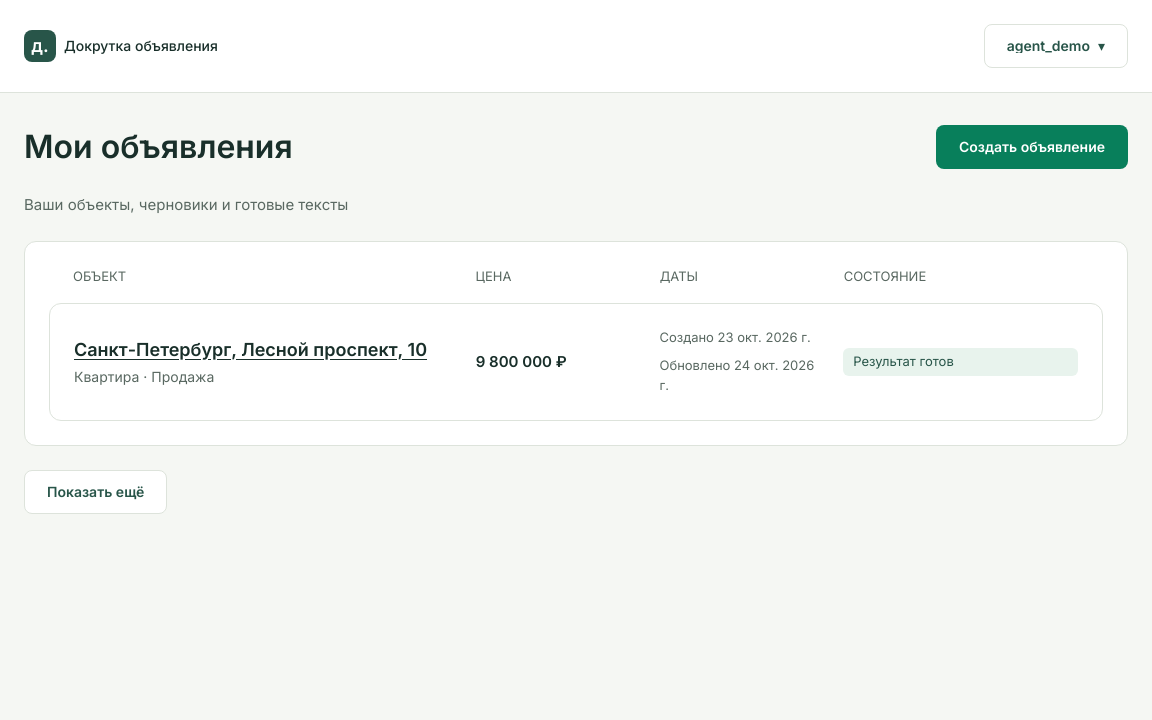
Test: ошибка догрузки сохраняет строки и курсор для ручного повтора
Check: the heading "Мои объявления" is shown, box [24, 127, 293, 167]
Click the button "Показать ещё": {"x": 96, "y": 492} [24, 470, 167, 514]
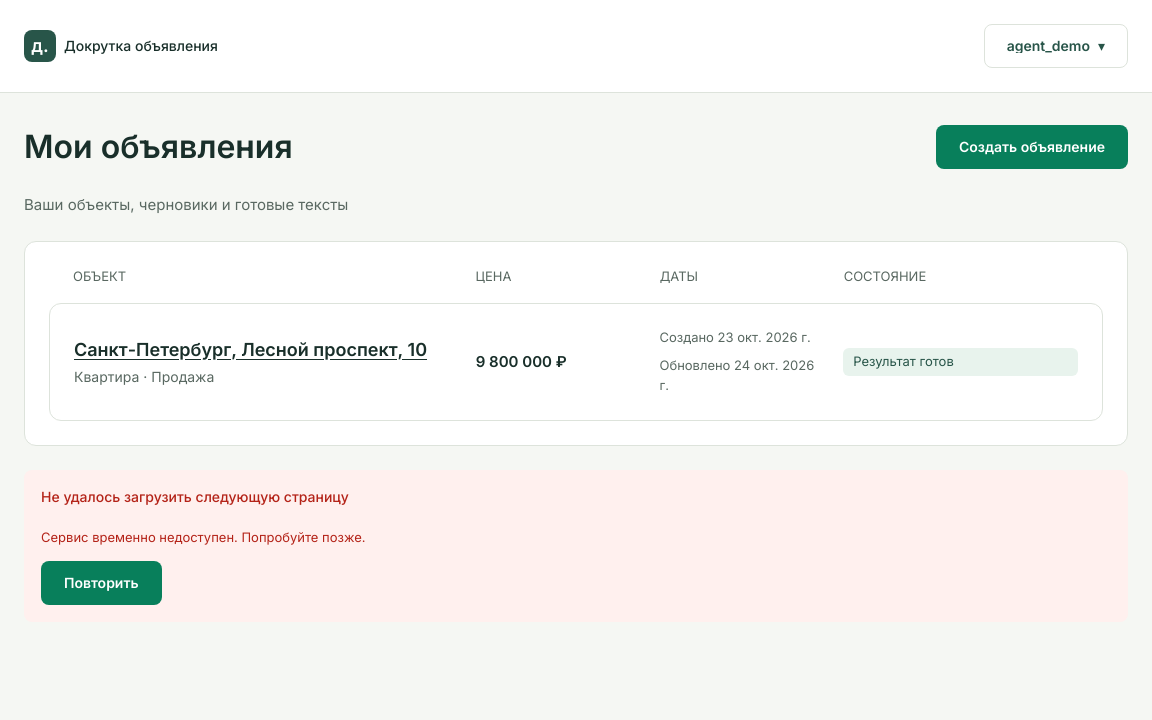
Check: the list shows "Лесной", box [74, 339, 427, 360]
Check: the message shows "следующую страницу", box [41, 488, 349, 505]
Click the button "Повторить": {"x": 101, "y": 583} [41, 561, 162, 605]
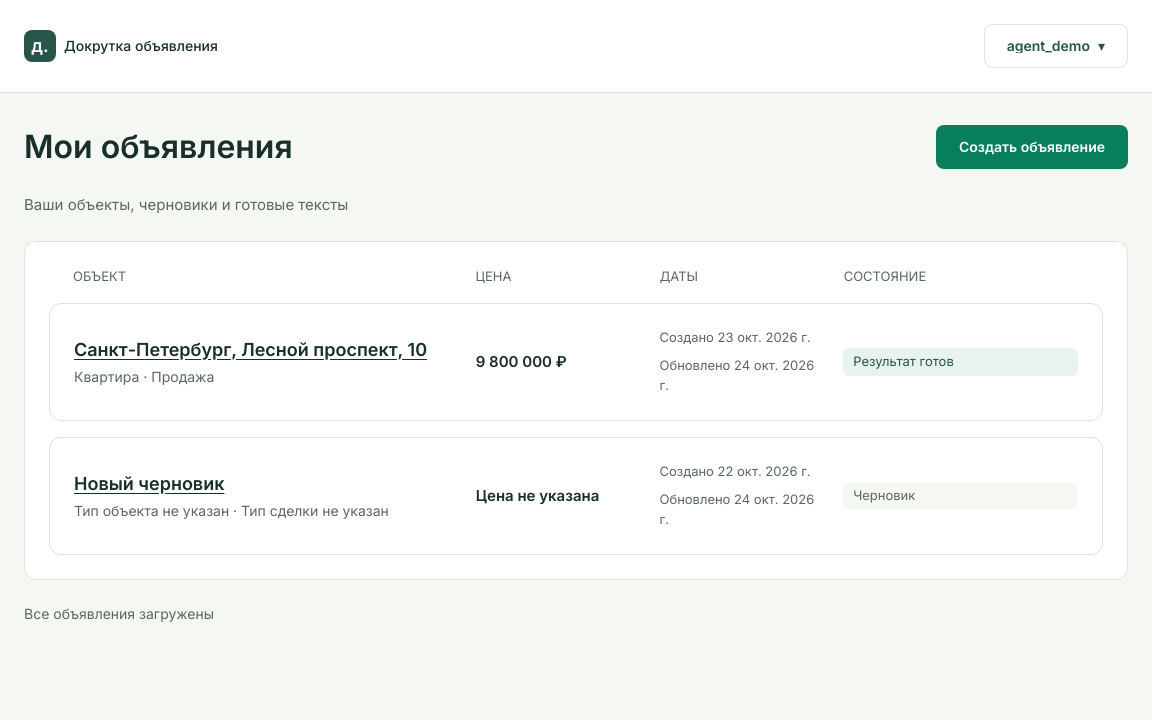
Check: the number of list items is 2, box [49, 303, 1103, 421]; [49, 437, 1103, 555]
